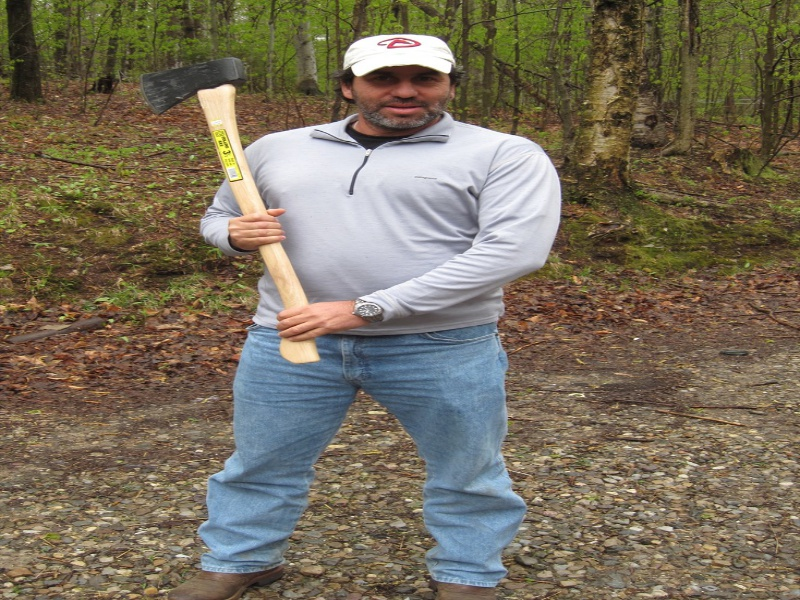axe: (139, 51, 251, 197)
